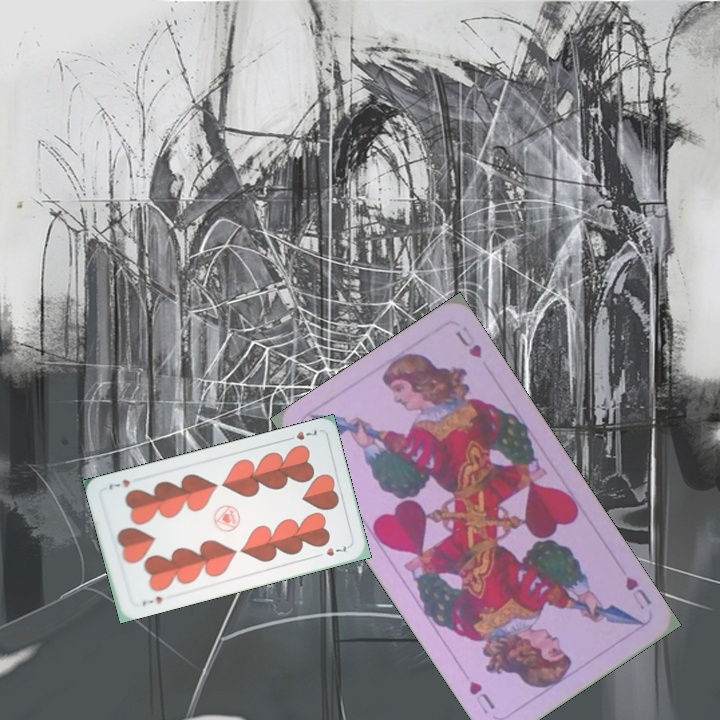H7: (282, 425, 321, 444), (138, 592, 165, 608)
HU: (621, 572, 655, 613)
